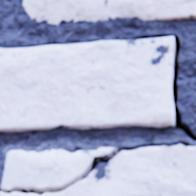brick: (0, 38, 173, 132), (23, 0, 195, 25)
broken_brick: (42, 145, 195, 195), (1, 148, 114, 188), (0, 192, 37, 195)
crack: (1, 141, 195, 195), (141, 37, 195, 141)
